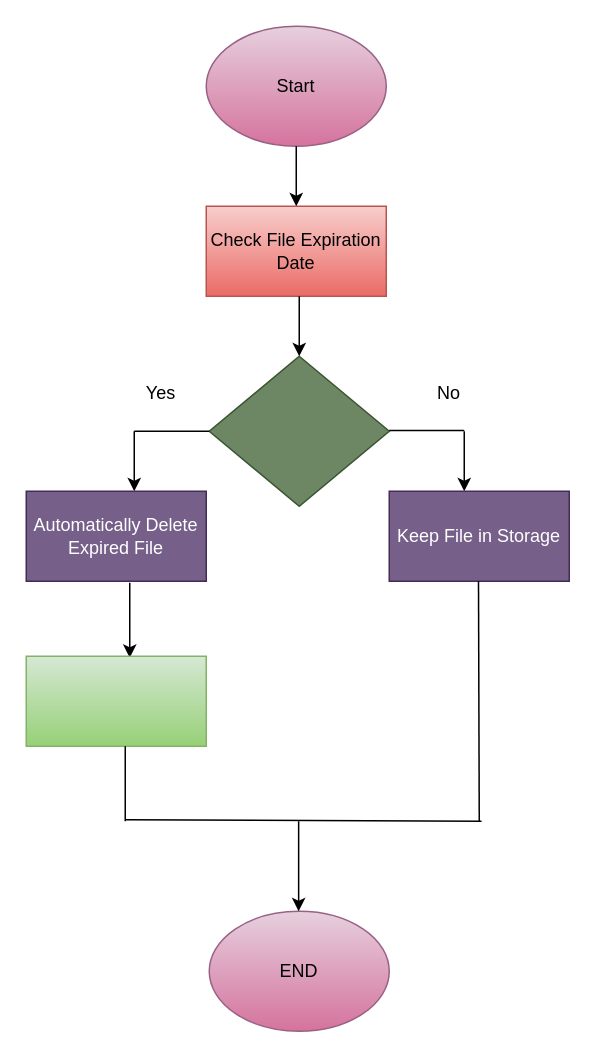
Image size: 596x1058. Some labels were removed from this diagram. Each missing label, with the box of its shape:
Is Expired: (208, 355, 389, 506)
Log File Deletion Activity: (25, 655, 206, 746)
